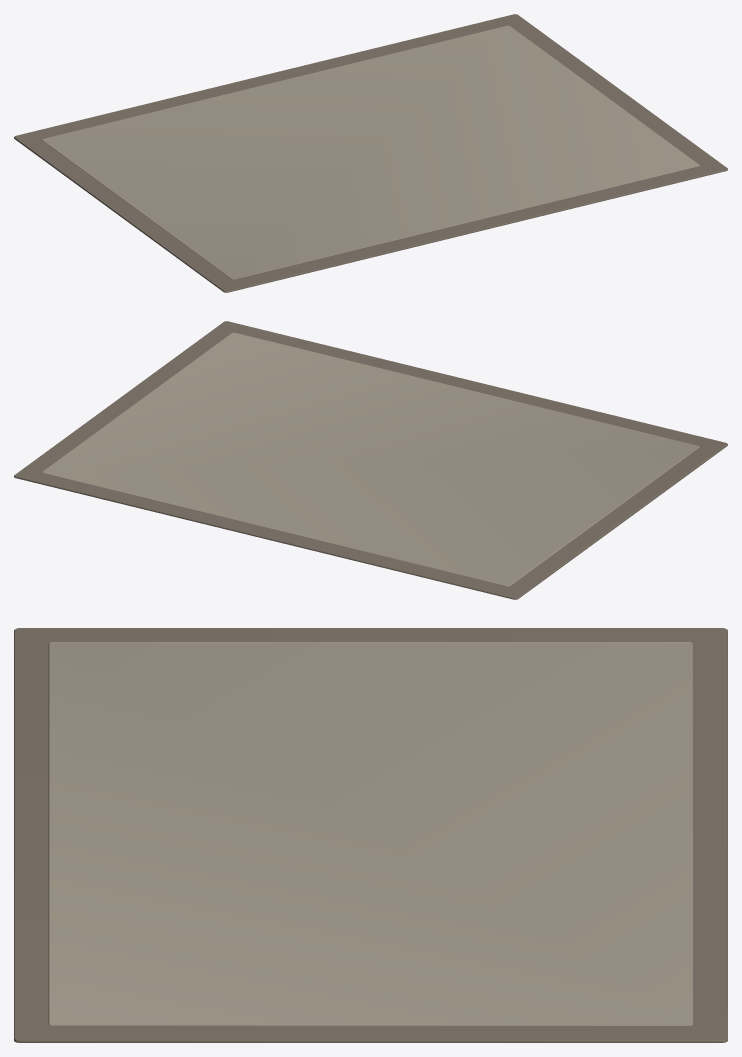
Rendered from living_rug.gltf.
3 views of the same model, one above another, from view 1: azimuth 30°, elevation 25°; view 2: azimuth 150°, elevation 25°; view 3: azimuth 270°, elevation 25° (orthographic). The views are drawn at different scales.
Visible parts, largest first — view 1: LivingRug_Field, LivingRug_Border; view 2: LivingRug_Field, LivingRug_Border; view 3: LivingRug_Field, LivingRug_Border.
Part boxes in pixels (x1,y1,x2,y2): LivingRug_Field: (42, 25, 699, 279); LivingRug_Border: (14, 14, 727, 292); LivingRug_Field: (42, 332, 699, 586); LivingRug_Border: (14, 321, 727, 599); LivingRug_Field: (48, 642, 693, 1025); LivingRug_Border: (14, 628, 727, 1042).
Size of the model in its own units: 5.2 by 0.0169 by 3.8.
